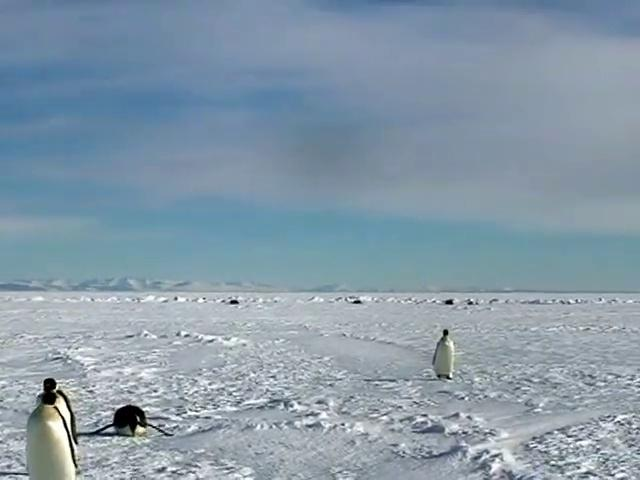animal: (80, 406, 174, 437)
